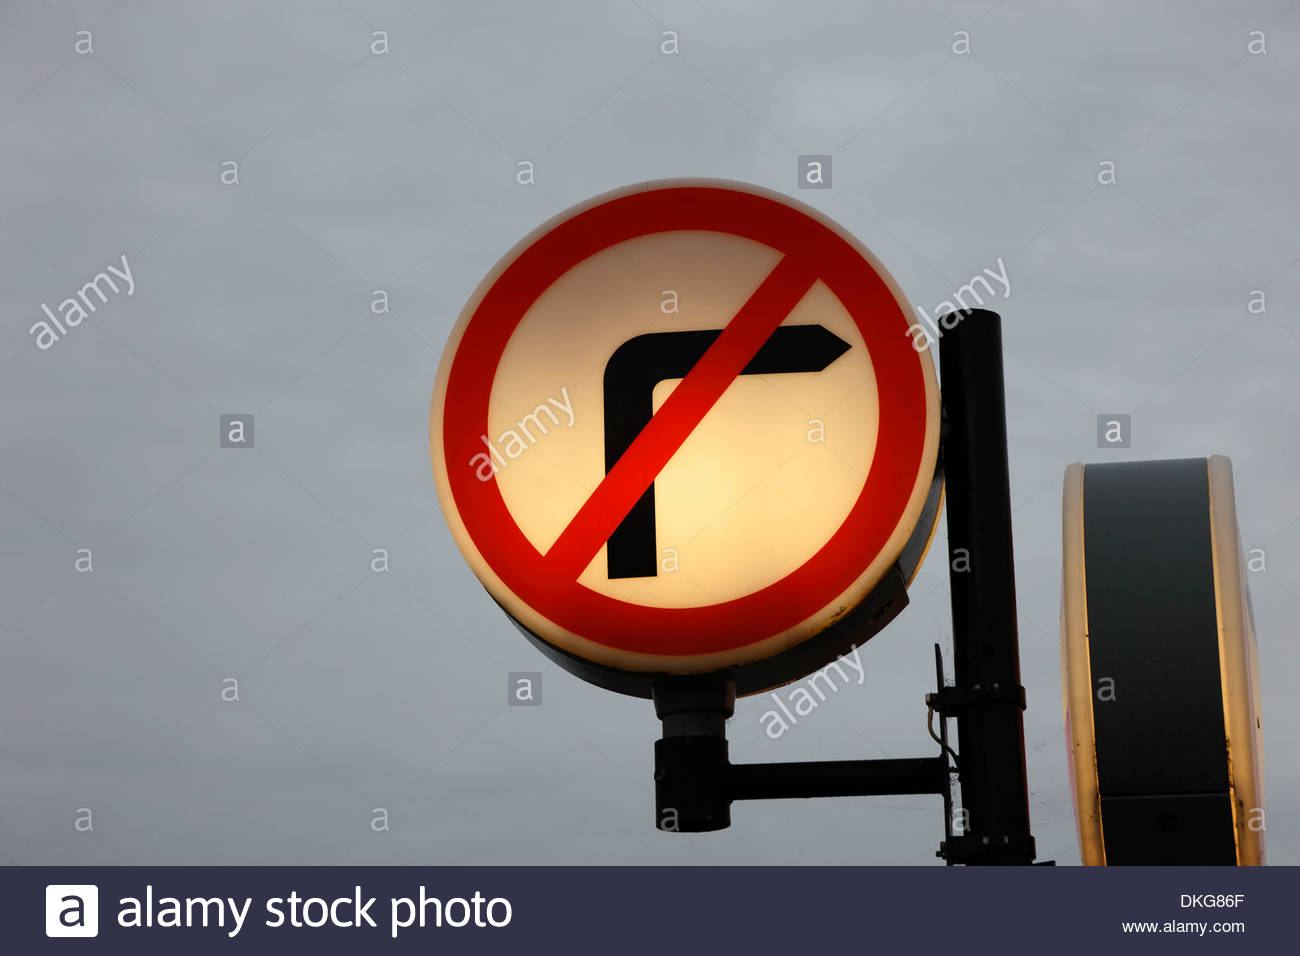No_right_turn: (428, 179, 944, 669)
